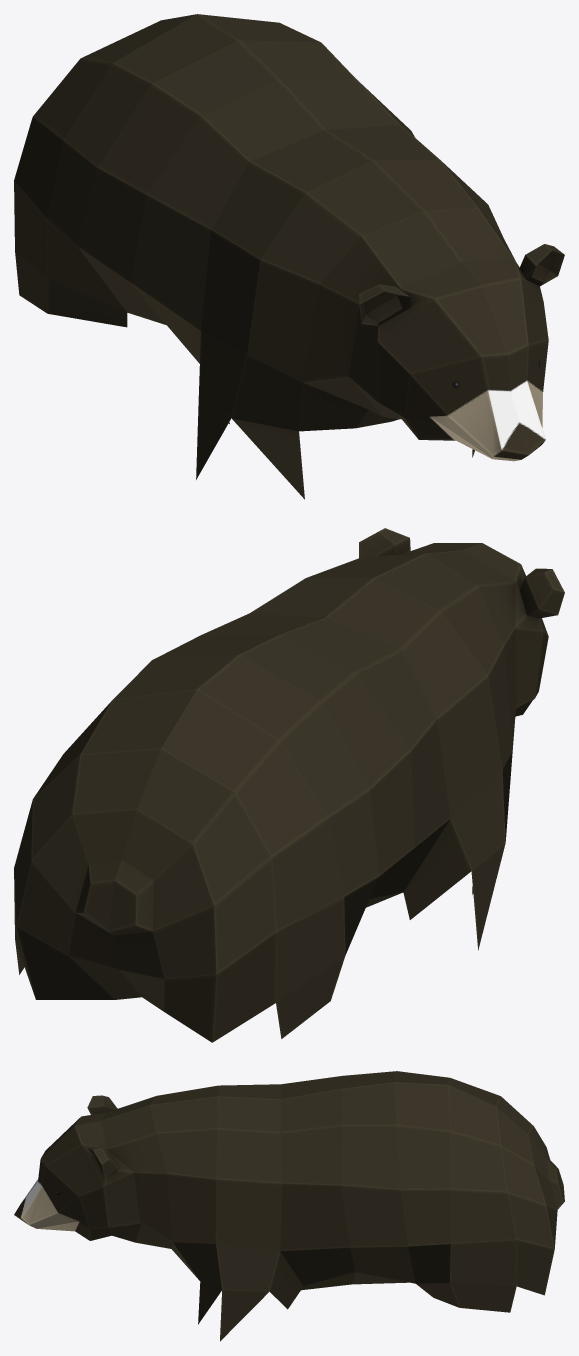
The model's file is body.dae.
3 views of the same model, one above another, from view 1: azimuth 30°, elevation 25°; view 2: azimuth 150°, elevation 25°; view 3: azimuth 270°, elevation 25° (orthographic). The views are drawn at different scales.
Parts seen in each view (by area): view 1: n; view 2: n; view 3: n.
Boxes of the visible parts, x1,y1,x2,y2 form: n: (14, 14, 564, 499); n: (14, 528, 564, 1042); n: (14, 1071, 564, 1341).
Size of the model in its own units: 6.68 by 16.13 by 7.06.
Materials: 1 (1 with a texture image).
